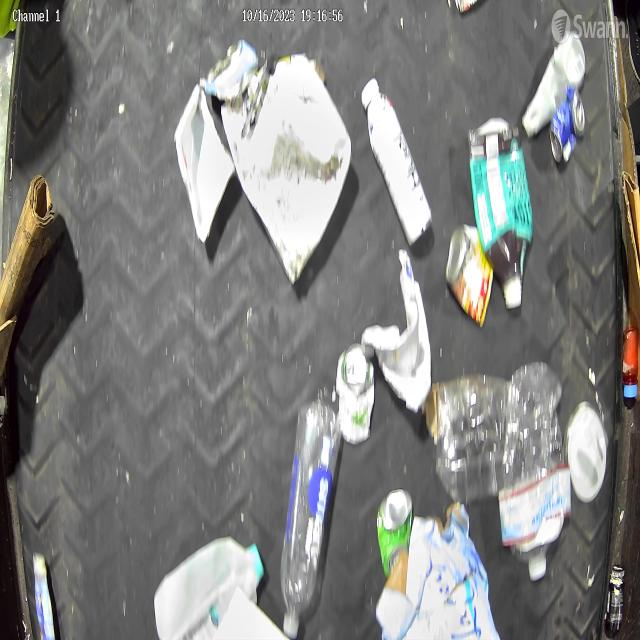can: (443, 223, 494, 329), (335, 343, 376, 448), (375, 484, 415, 573), (548, 88, 586, 163)
milk_jug: (152, 535, 266, 640)
non_white_jug: (469, 115, 535, 314)
plastic_bottle: (276, 400, 344, 640), (506, 359, 568, 581)
